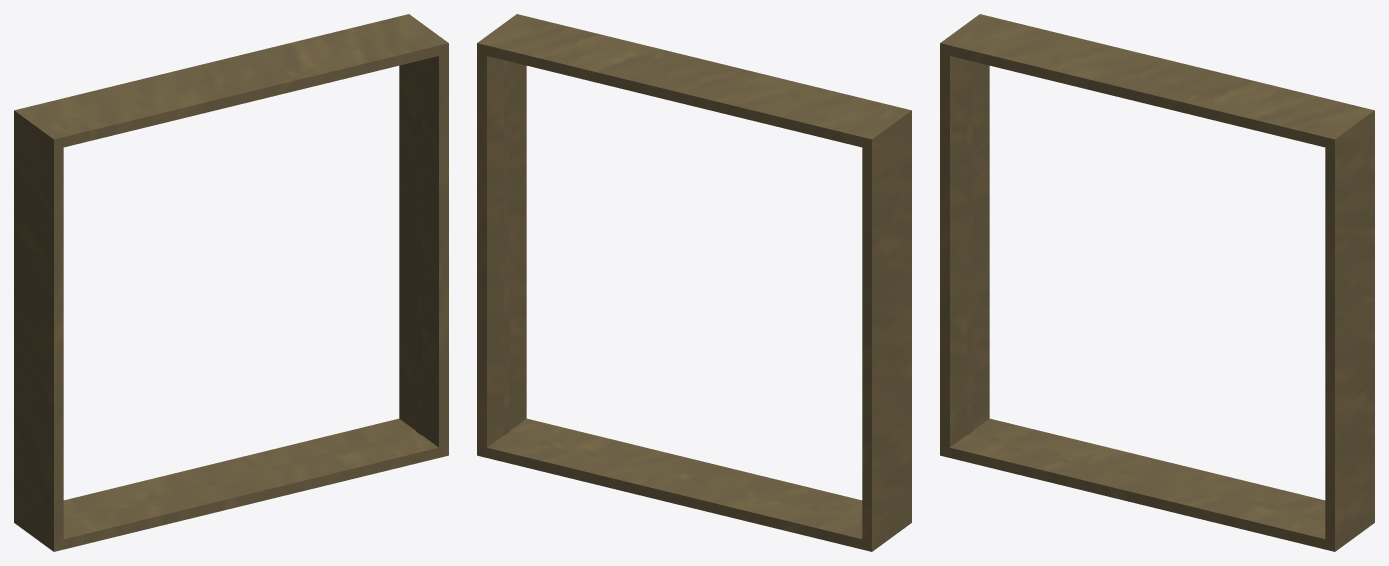
Rendered from Window.fbx.
3 renders of one model, left to right at view 1: azimuth 30°, elevation 25°; view 2: azimuth 150°, elevation 25°; view 3: azimuth 330°, elevation 25°, orthographic.
Parts seen in each view (by area): view 1: pasted__pCube1; view 2: pasted__pCube1; view 3: pasted__pCube1.
Boxes of the visible parts, left/top/right/bottom form: pasted__pCube1: left=14, top=14, right=448, bottom=551; pasted__pCube1: left=477, top=14, right=911, bottom=551; pasted__pCube1: left=940, top=14, right=1374, bottom=551.
Bounding box in the file's own units: 40.08 × 40 × 7.
1 material, 1 textured.
